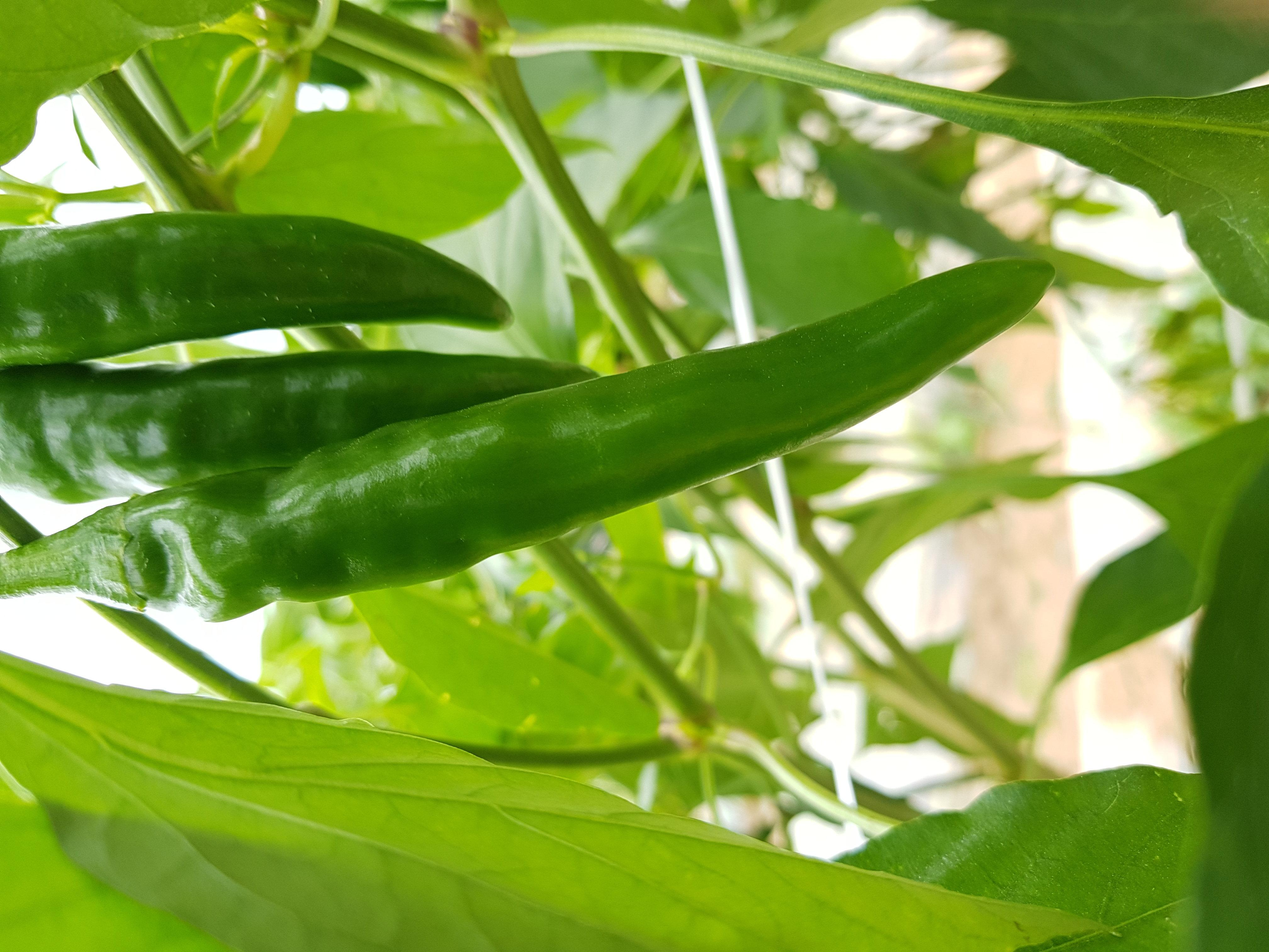Buah Cabai Sehat: (2, 250, 1057, 625), (0, 344, 596, 512), (0, 204, 523, 368)
